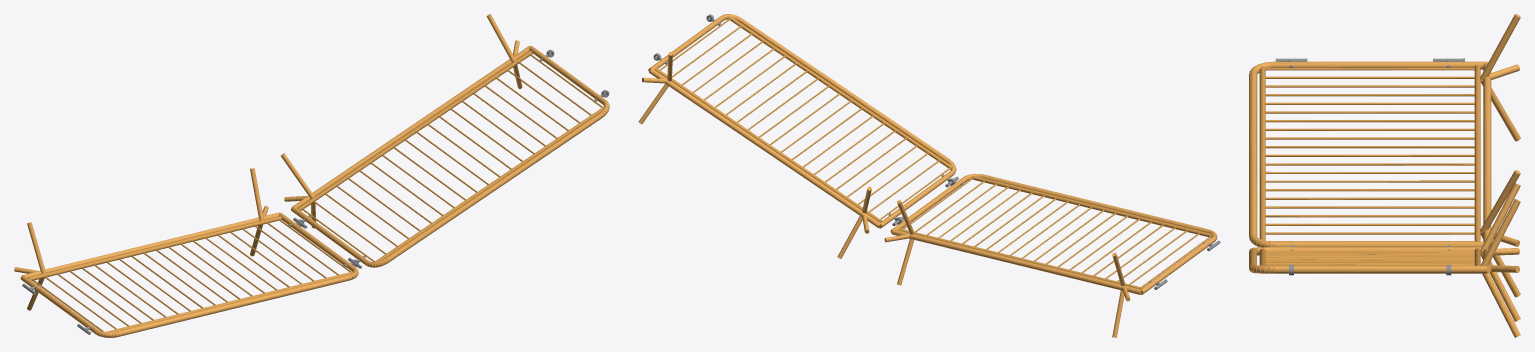
File: component-panel_style-picket_tubular.glb
The picture shows the model from 3 angles, left to right: view 1: azimuth 30°, elevation 25°; view 2: azimuth 150°, elevation 25°; view 3: azimuth 270°, elevation 25°; orthographic projection. The views are drawn at different scales.
Parts seen in each view (by area): view 1: panel_0__infill, panel_0__frame, panel_0__eye_top; view 2: panel_0__infill, panel_0__frame, panel_0__eye_top; view 3: panel_0__infill, panel_0__frame, panel_0__eye_top.
Part boxes in pixels (bbox=[...]): panel_0__infill: bbox=[28, 50, 604, 332]; panel_0__frame: bbox=[14, 14, 609, 337]; panel_0__eye_top: bbox=[22, 49, 609, 334]; panel_0__infill: bbox=[655, 16, 1212, 289]; panel_0__frame: bbox=[638, 14, 1217, 337]; panel_0__eye_top: bbox=[653, 14, 1220, 289]; panel_0__infill: bbox=[1259, 64, 1480, 265]; panel_0__frame: bbox=[1249, 14, 1520, 337]; panel_0__eye_top: bbox=[1275, 58, 1464, 275].
Bounding box in the file's own units: 4.09 × 1.37 × 1.28.
